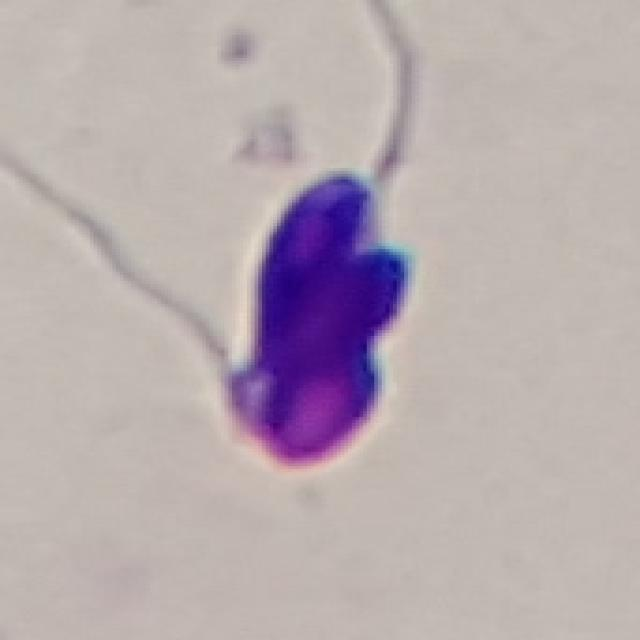abnormal sperm: (29, 7, 458, 510)
